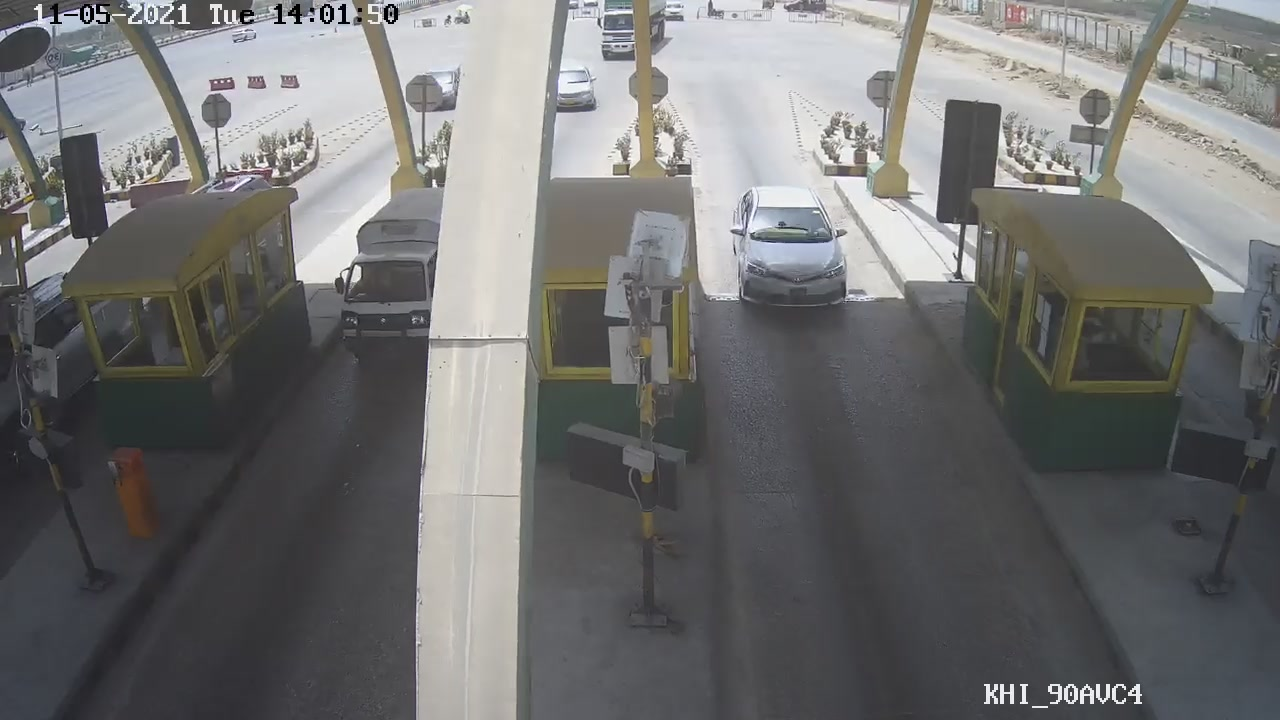F1: (712, 181, 857, 316)
